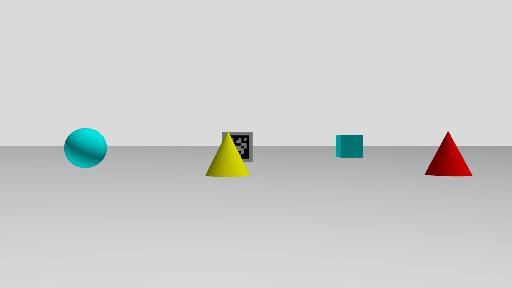red_cone: (423, 130, 473, 176)
yellow_cone: (204, 130, 251, 178)
